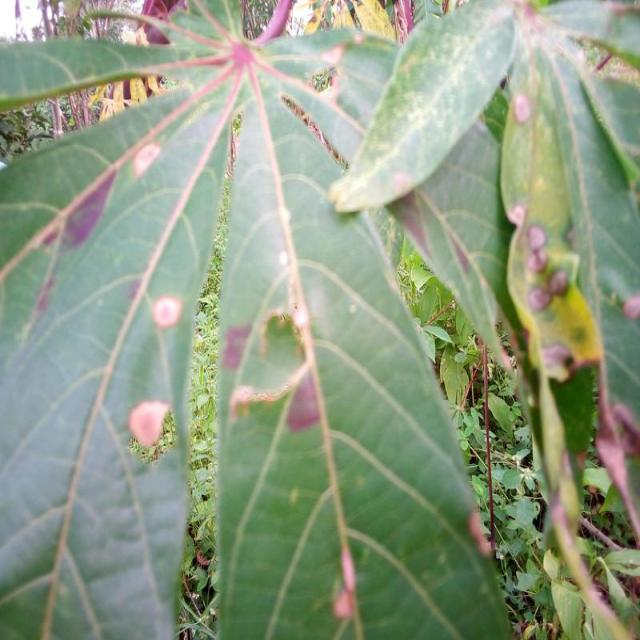cassava leaf: (214, 24, 512, 638)
